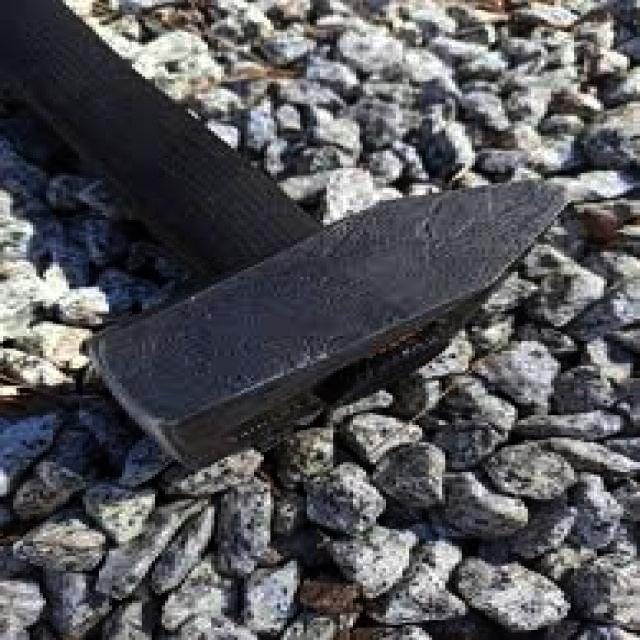hammer: (0, 0, 580, 474)
